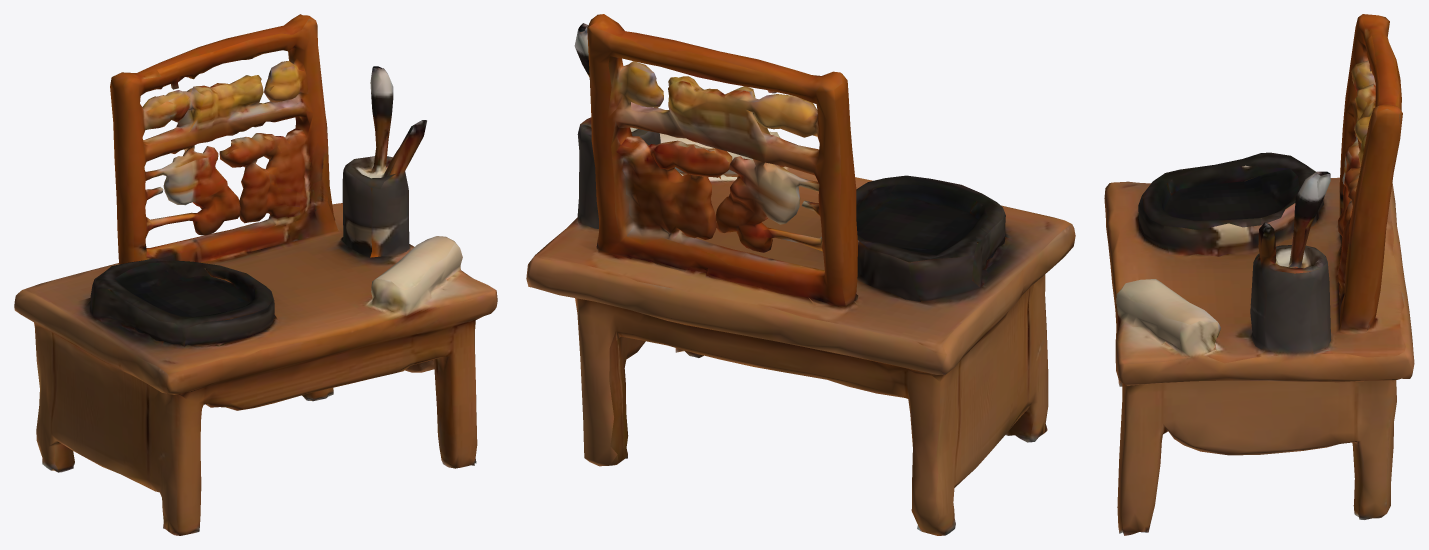
Rendered from prop_abacus_scroll_desk.glb.
3 renders of one model, left to right at view 1: azimuth 30°, elevation 25°; view 2: azimuth 150°, elevation 25°; view 3: azimuth 270°, elevation 25°, orthographic. The views are drawn at different scales.
Parts seen in each view (by area): view 1: geometry_0; view 2: geometry_0; view 3: geometry_0.
Boxes of the visible parts, box(x1,y1,x2,y2) form: geometry_0: box(14, 14, 497, 535); geometry_0: box(526, 14, 1075, 535); geometry_0: box(1104, 14, 1414, 535).
Bounding box in the file's own units: 0.9828 × 0.9704 × 0.67.
1 material, 1 textured.
